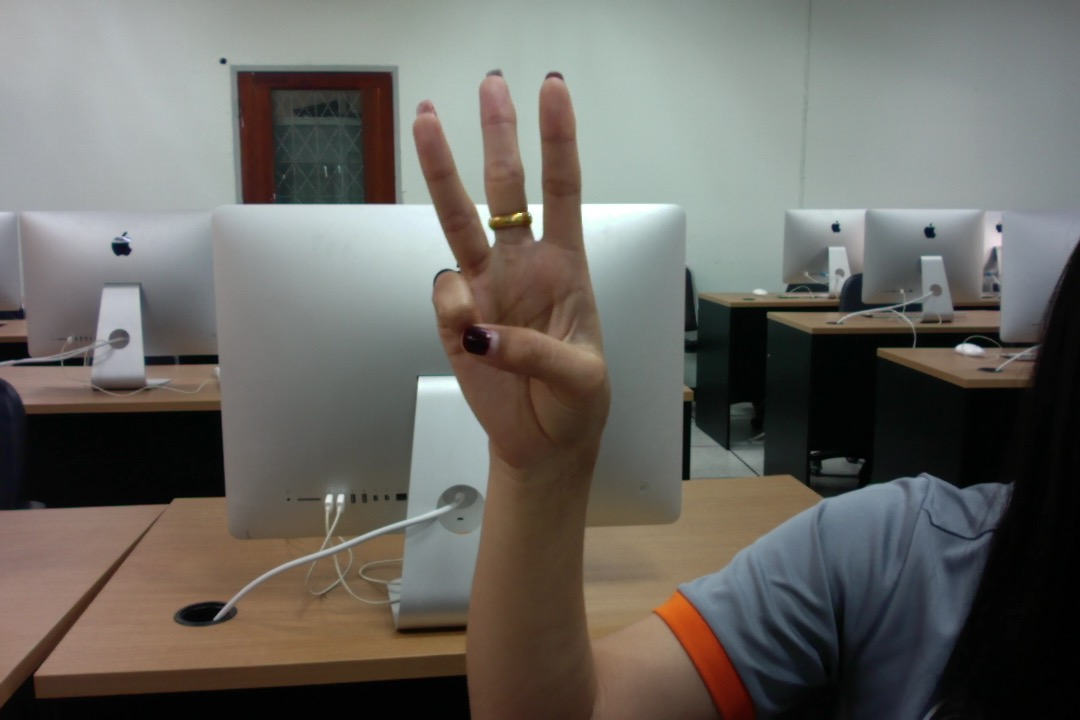wor: (399, 68, 620, 466)
